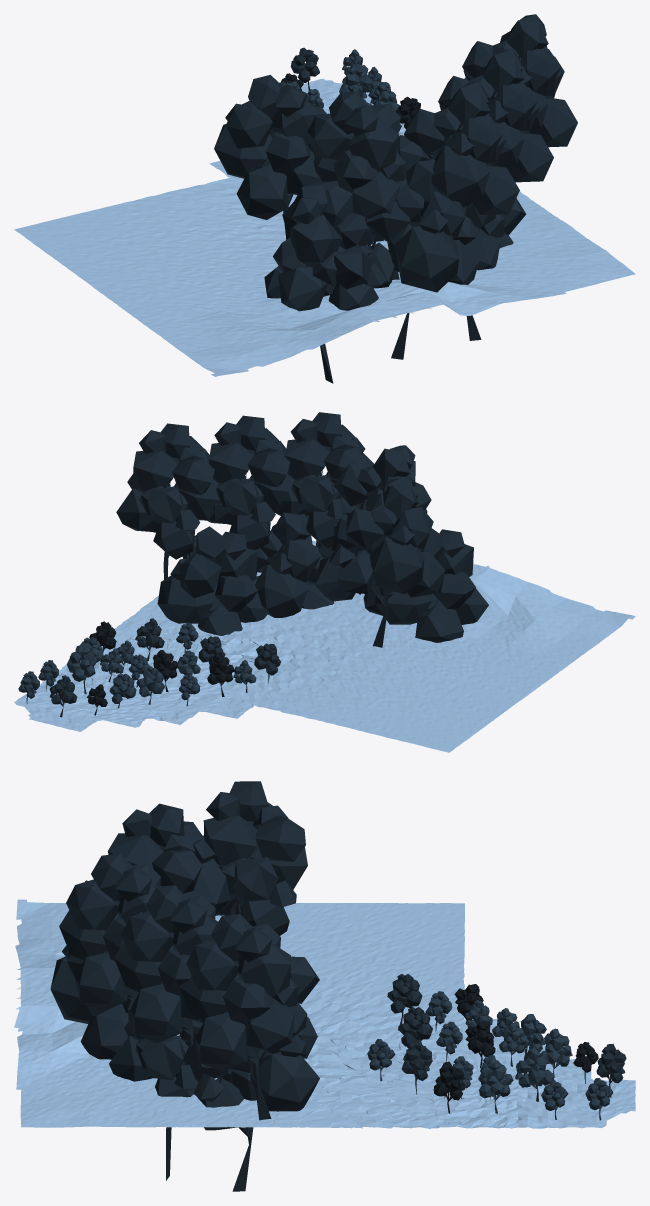
3 views of the same model, one above another, from view 1: azimuth 30°, elevation 25°; view 2: azimuth 150°, elevation 25°; view 3: azimuth 270°, elevation 25° (orthographic). The views are drawn at different scales.
Parts seen in each view (by area): view 1: scena; view 2: scena; view 3: scena.
Part boxes in pixels (box(x1,y1,x2,y2)): scena: box(14, 14, 635, 383); scena: box(14, 412, 635, 752); scena: box(14, 781, 635, 1191).
Size of the model in its own units: 72.06 by 42.1 by 77.79.
